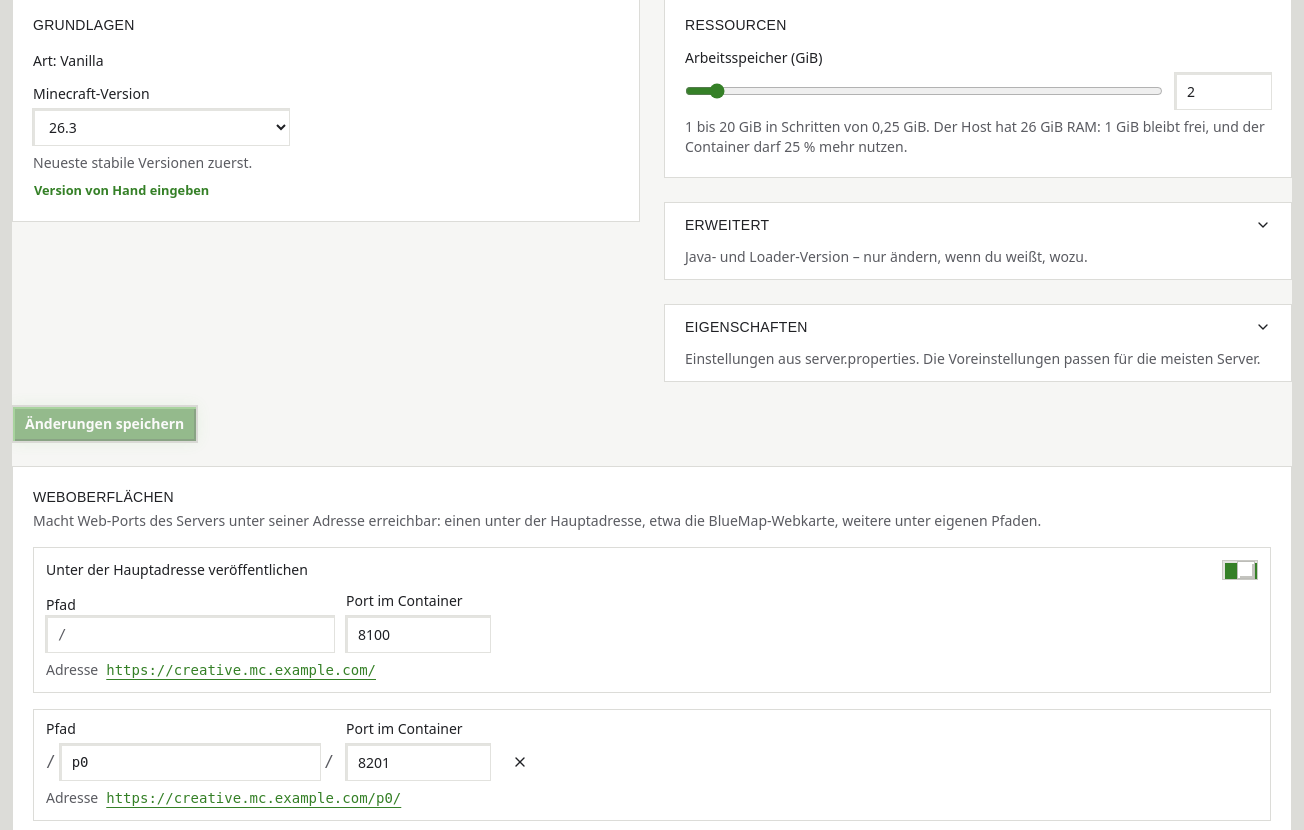
Test: WebRoutesSection › counts the root against the limit of 8 only while it is switched on
Click the switch named "Unter der Hauptadresse veröffentlichen" at (1240, 570), box [1222,560,1258,580]
(page scrolled)
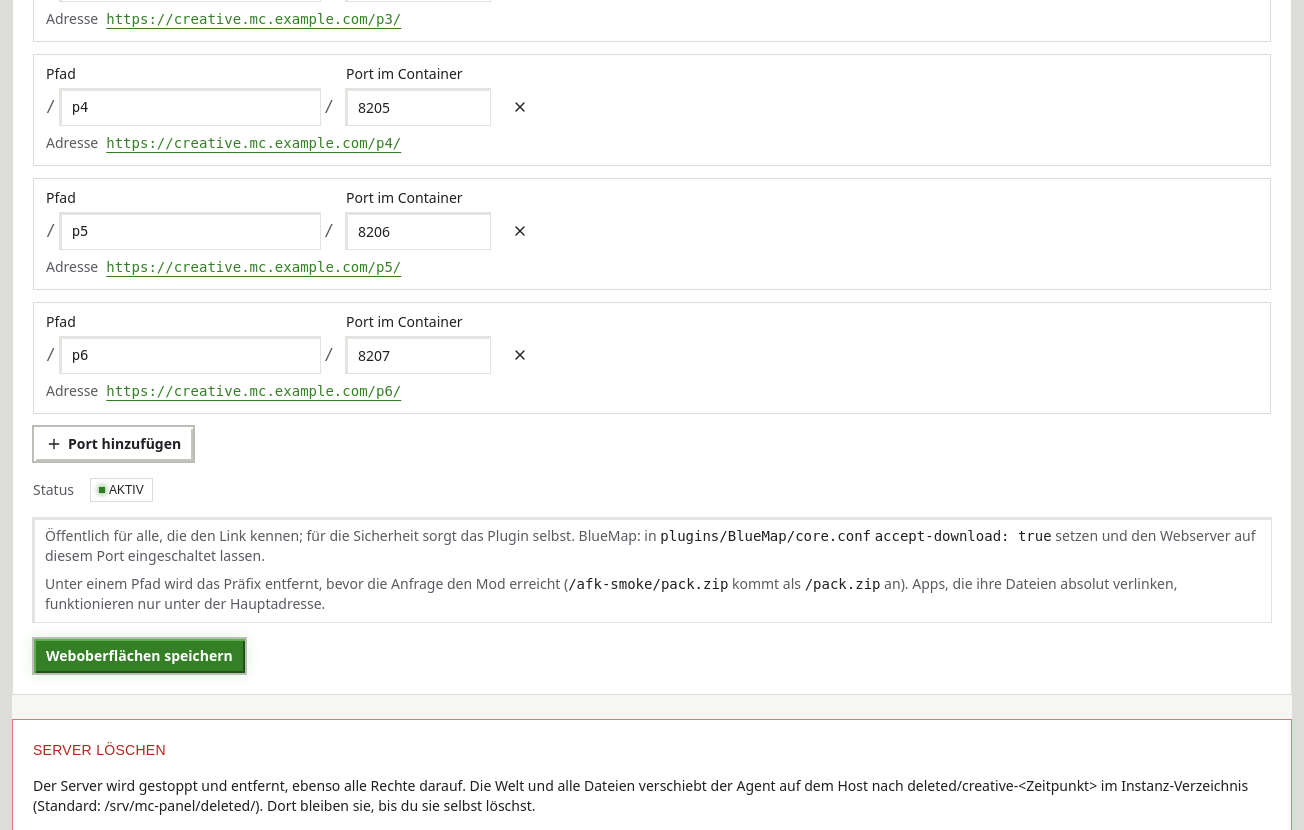
Result: the button "Port hinzufügen" is enabled
Click the button "Port hinzufügen" at (114, 444), box [33,426,194,462]
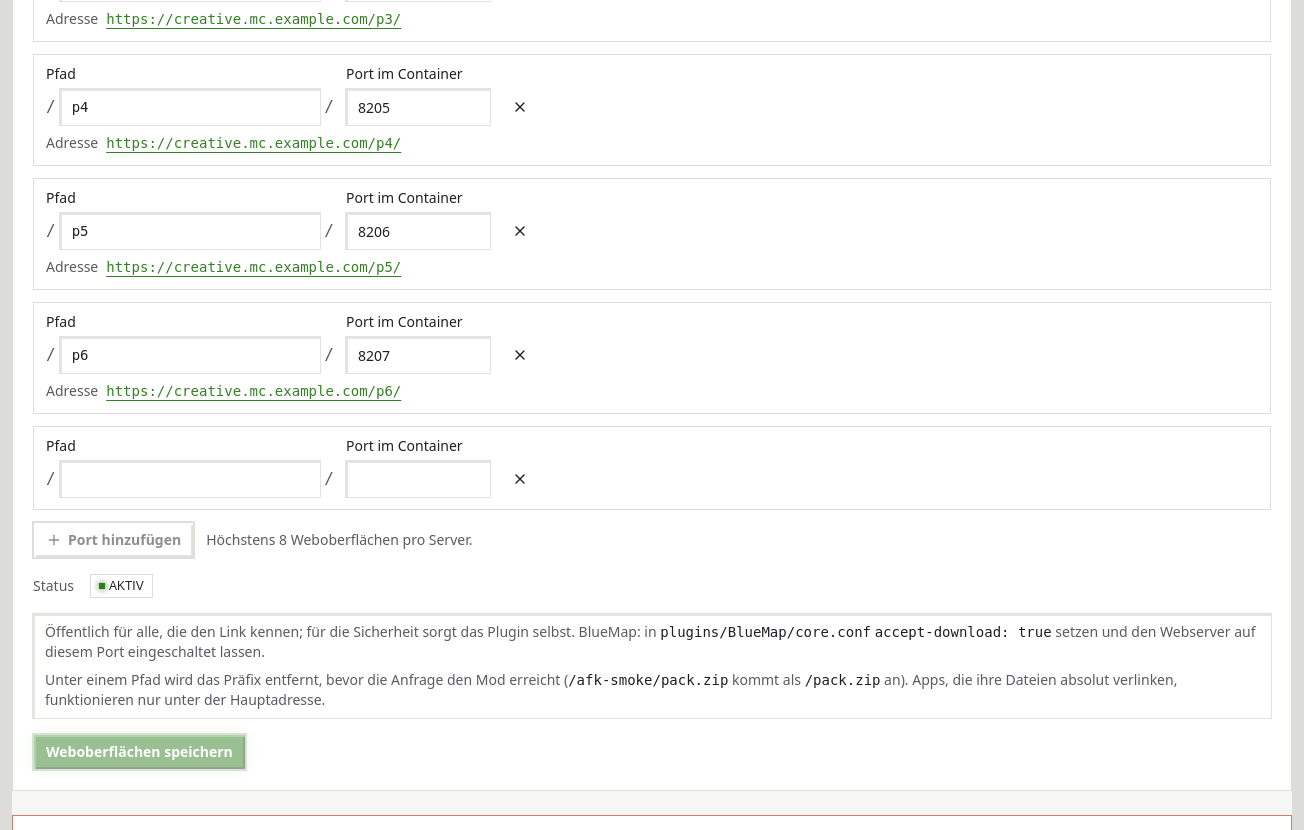
Result: the button "Port hinzufügen" is disabled at [33,522,194,558]
